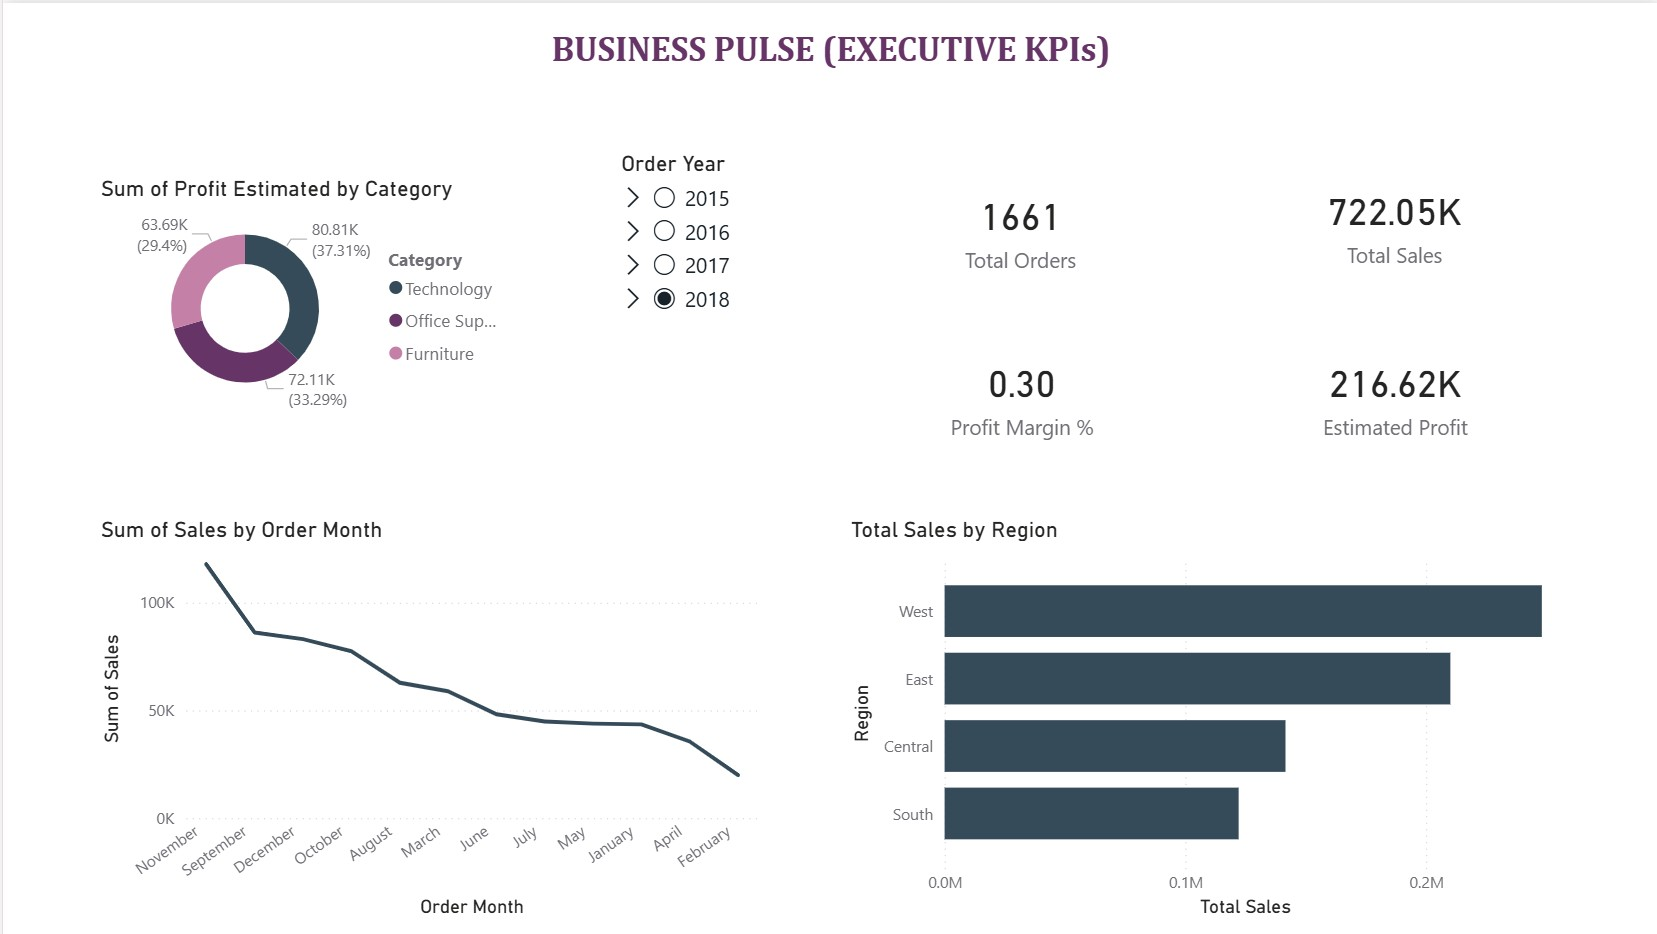

The dashboard page shown, as its layout file describes it:
{"tool":"powerbi","page":{"name":"Executive KPIs","canvas":[1280,720],"ordinal":0},"visuals":[{"type":"textbox","box":[397.4,13.9,484.3,41.7],"z":0},{"type":"card","fields":{"Values":["train.Total Sales"]},"box":[962.9,113.6,223.6,112.4],"z":1000},{"type":"card","fields":{"Values":["train.Estimated Profit"]},"box":[962.9,249.1,224.8,106.6],"z":2000},{"type":"card","fields":{"Values":["train.Profit Margin %"]},"box":[674.4,249.1,224.8,106.6],"z":3000},{"type":"card","fields":{"Values":["train.Total Orders"]},"box":[673.2,121.7,224.8,104.3],"z":4000},{"type":"lineChart","fields":{"Category":["train.Order Month"],"Y":["Sum(train.Sales)"]},"box":[70.7,396.3,516.8,314],"z":5000},{"type":"barChart","fields":{"Category":["train.Region"],"Y":["train.Total Sales"]},"box":[650,396.3,560.8,314],"z":6000},{"type":"donutChart","fields":{"Category":["train.Category"],"Y":["Sum(train.Profit Estimated)"]},"box":[70.7,133.3,327.9,185.4],"z":7000},{"type":"listSlicer","fields":{"Values":["train.Order Year","train.Segment"]},"box":[472.8,113.6,177.3,242.2],"z":8000}]}

Visuals, with their boxes in screenshot pixels (x1, y1, x2, y2), scaled from the page's 1280x720 canvas onto the 1657x934 screenshot:
textbox: 514 18 1141 72
card - train.Total Sales: 1247 147 1536 293
card - train.Estimated Profit: 1247 323 1538 461
card - train.Profit Margin %: 873 323 1164 461
card - train.Total Orders: 871 158 1162 293
lineChart - train.Order Month x Sum(train.Sales): 92 514 761 921
barChart - train.Region x train.Total Sales: 841 514 1567 921
donutChart - train.Category x Sum(train.Profit Estimated): 92 173 516 413
listSlicer - train.Order Year x train.Segment: 612 147 842 462
